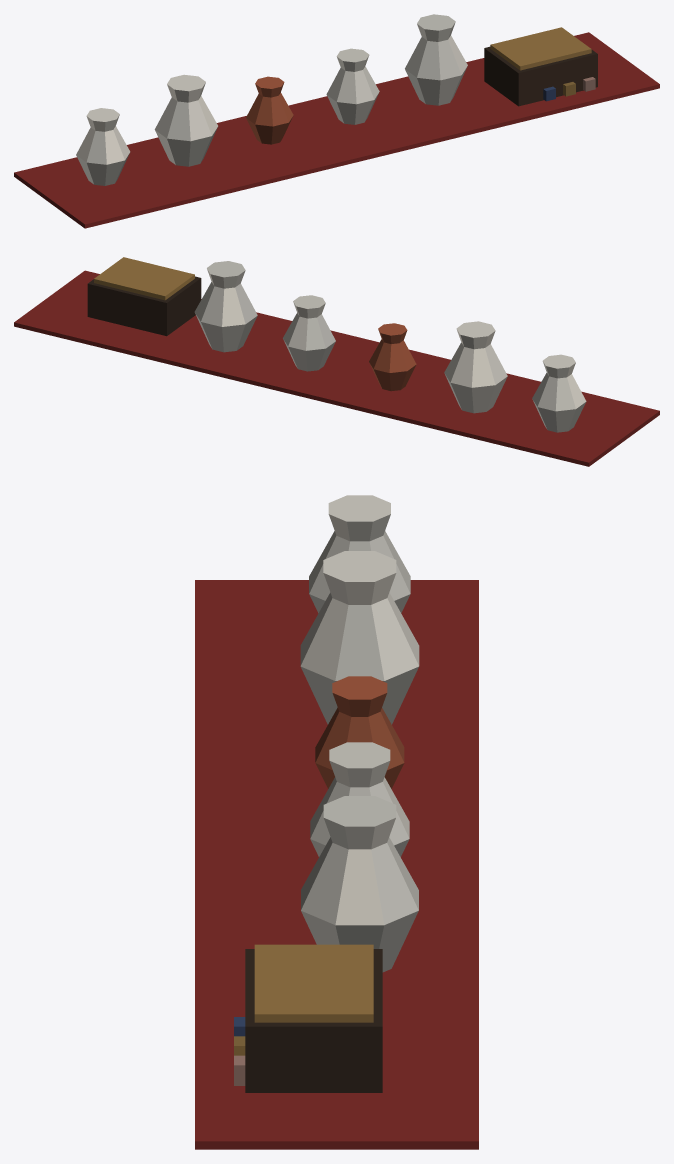
Rendered from walk_prop_goods_luxuries.glb.
3 renders of one model, top to bottom at view 1: azimuth 30°, elevation 25°; view 2: azimuth 150°, elevation 25°; view 3: azimuth 270°, elevation 25°, orthographic. The views are drawn at different scales.
Visible parts, largest first — view 1: walk_prop_goods_luxuries; view 2: walk_prop_goods_luxuries; view 3: walk_prop_goods_luxuries.
Boxes of the visible parts, x1,y1,x2,y2 form: walk_prop_goods_luxuries: [14, 14, 659, 228]; walk_prop_goods_luxuries: [14, 257, 659, 466]; walk_prop_goods_luxuries: [195, 495, 478, 1149].
Size of the model in its own units: 2.9 by 0.3886 by 0.62.
2 materials, 2 textured.
